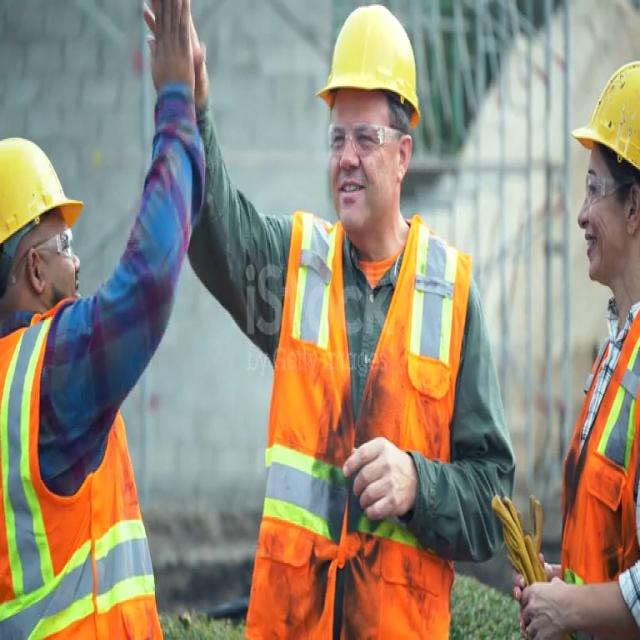capacete: (317, 0, 435, 133), (2, 117, 93, 242), (559, 54, 640, 178)
